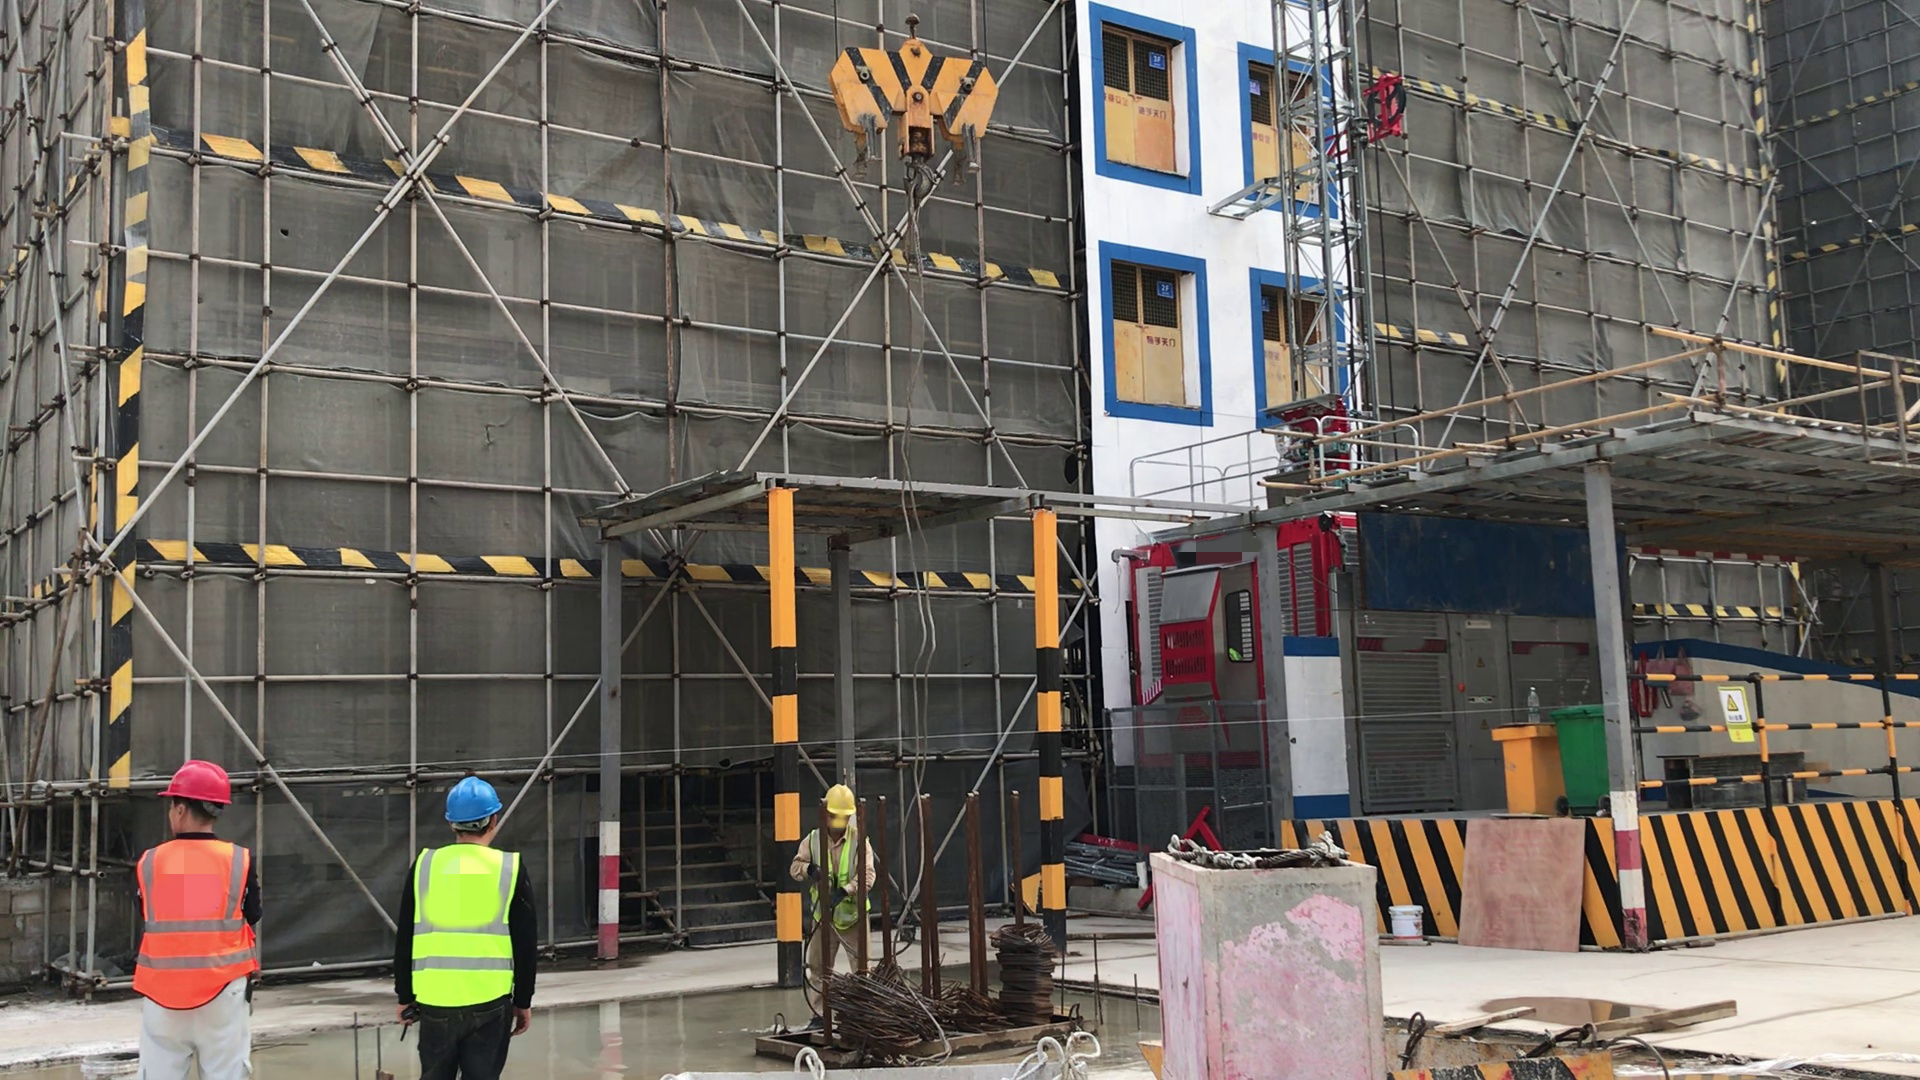helmet: (162, 761, 232, 819), (446, 773, 500, 830), (819, 785, 860, 826)
hook: (822, 8, 1011, 202)
person: (379, 779, 557, 1080), (127, 761, 261, 1080), (792, 782, 883, 993)
slogan: (1715, 685, 1754, 748)
vest: (133, 836, 258, 1004), (411, 845, 512, 1009), (807, 834, 864, 928)
